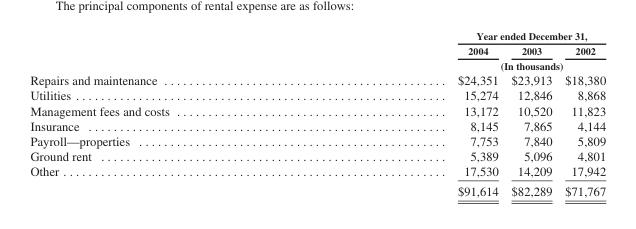table: (29, 29, 605, 198)
table column: (29, 29, 312, 198), (312, 29, 504, 198), (504, 29, 557, 198), (557, 29, 605, 198)
table column header: (29, 29, 605, 72)
table row: (29, 180, 605, 198), (29, 163, 605, 180), (29, 132, 605, 148), (29, 42, 605, 57), (29, 57, 605, 72), (29, 72, 605, 87), (29, 87, 605, 102), (29, 102, 605, 117), (29, 117, 605, 132), (29, 148, 605, 163), (29, 29, 605, 42)
table spanning cell: (312, 57, 605, 72), (312, 29, 605, 42)
